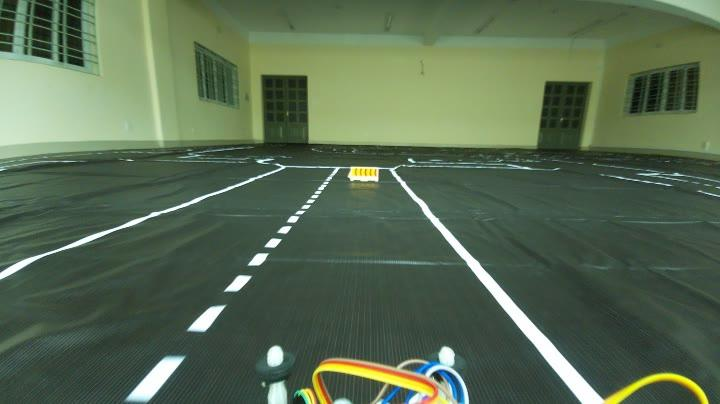roadblock: (346, 160, 384, 190)
